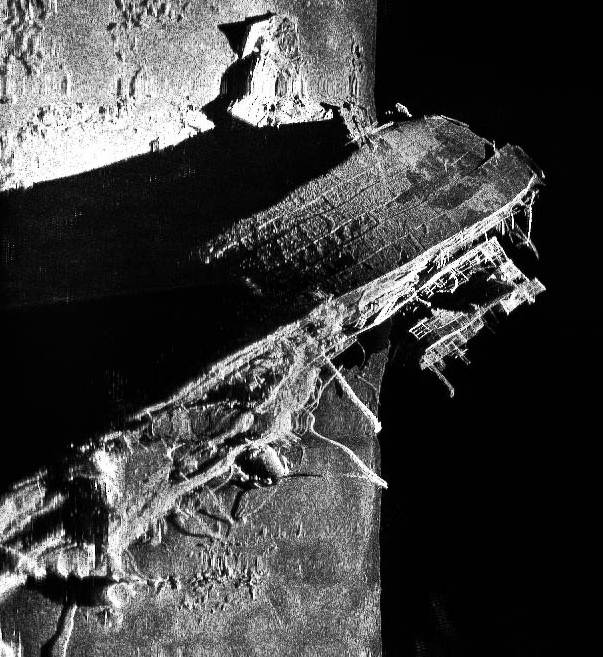ship: (5, 111, 553, 617)
